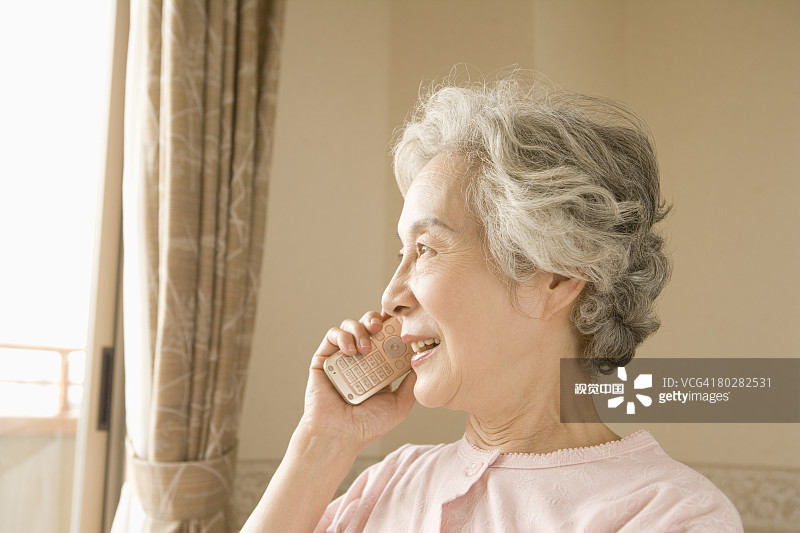calling: (277, 274, 433, 481)
